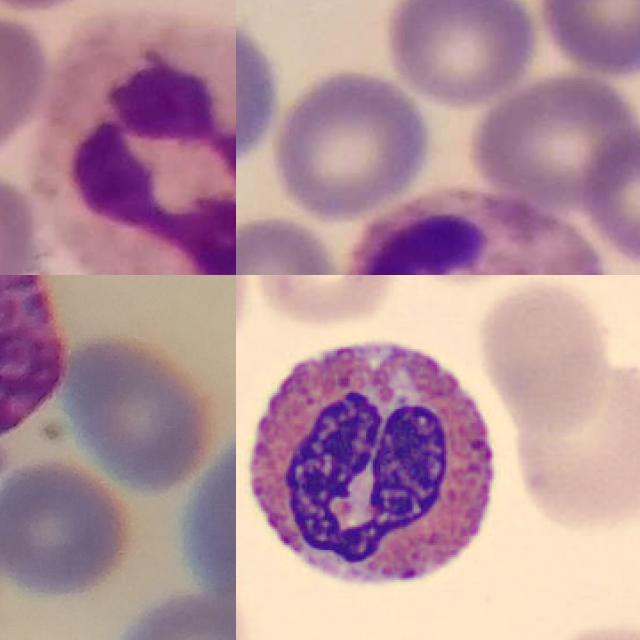Eosinophil: (236, 319, 511, 610)
Neutrophil: (36, 11, 236, 275), (332, 187, 611, 275)
RBC: (510, 352, 640, 536), (474, 275, 611, 433), (246, 275, 401, 327)
